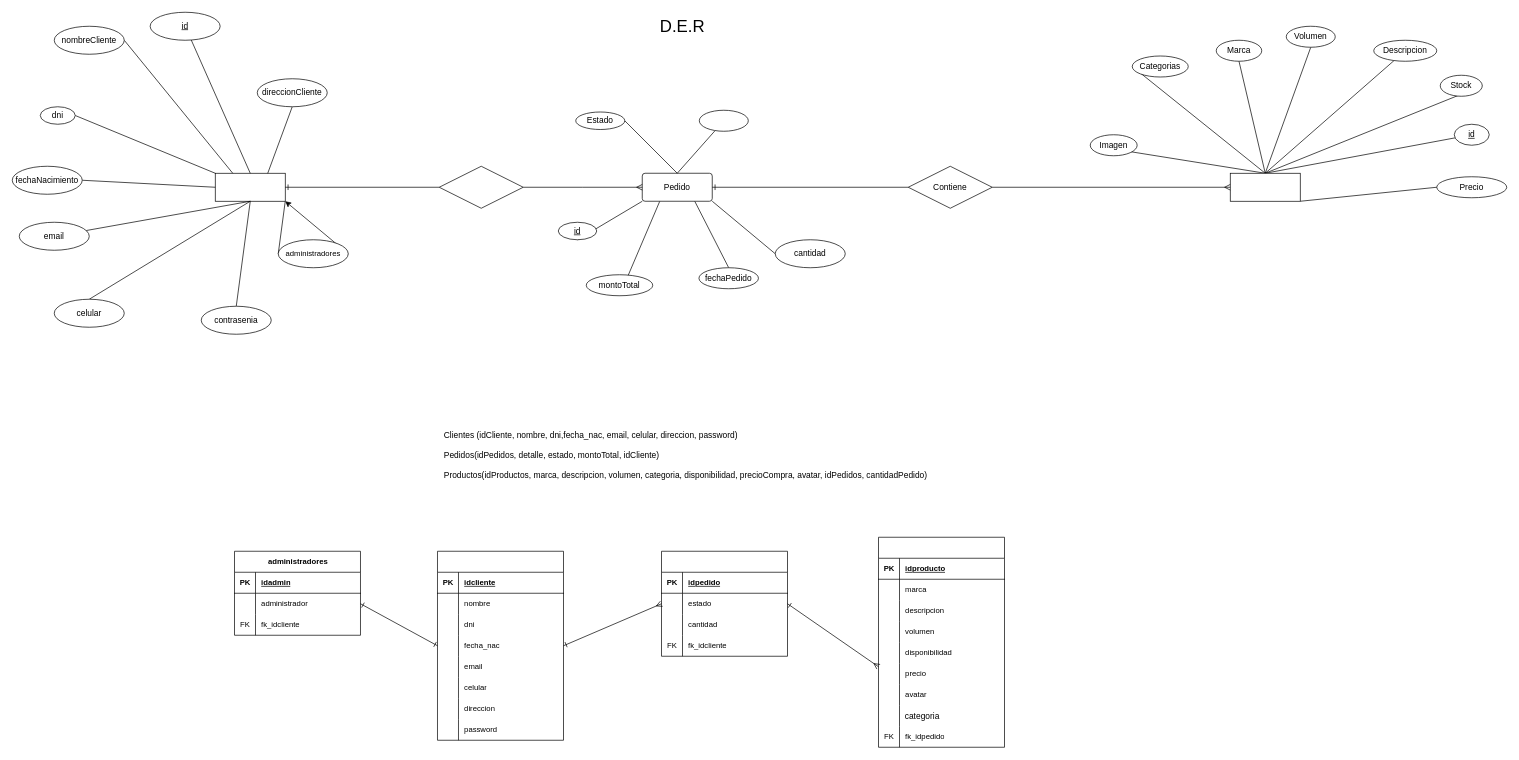
The diagram is 1519 pixels wide and 760 high, and some of its shapes have lost their labels. Here are the shapes that lost their labels. From the top down, the box of each, then its label:
(699, 110, 748, 131): Detalles
(215, 173, 285, 201): Cliente
(439, 166, 523, 208): Realiza
(1230, 173, 1300, 201): Producto
(661, 551, 788, 656): pedidos
(437, 551, 564, 740): clientes
(878, 537, 1004, 747): productos
